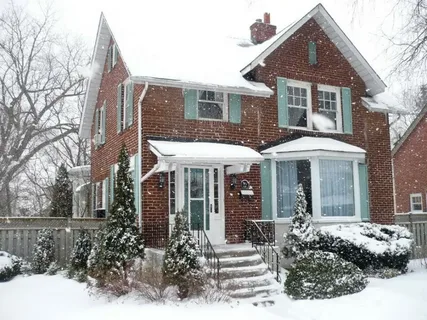private_hause: (92, 23, 393, 234)
